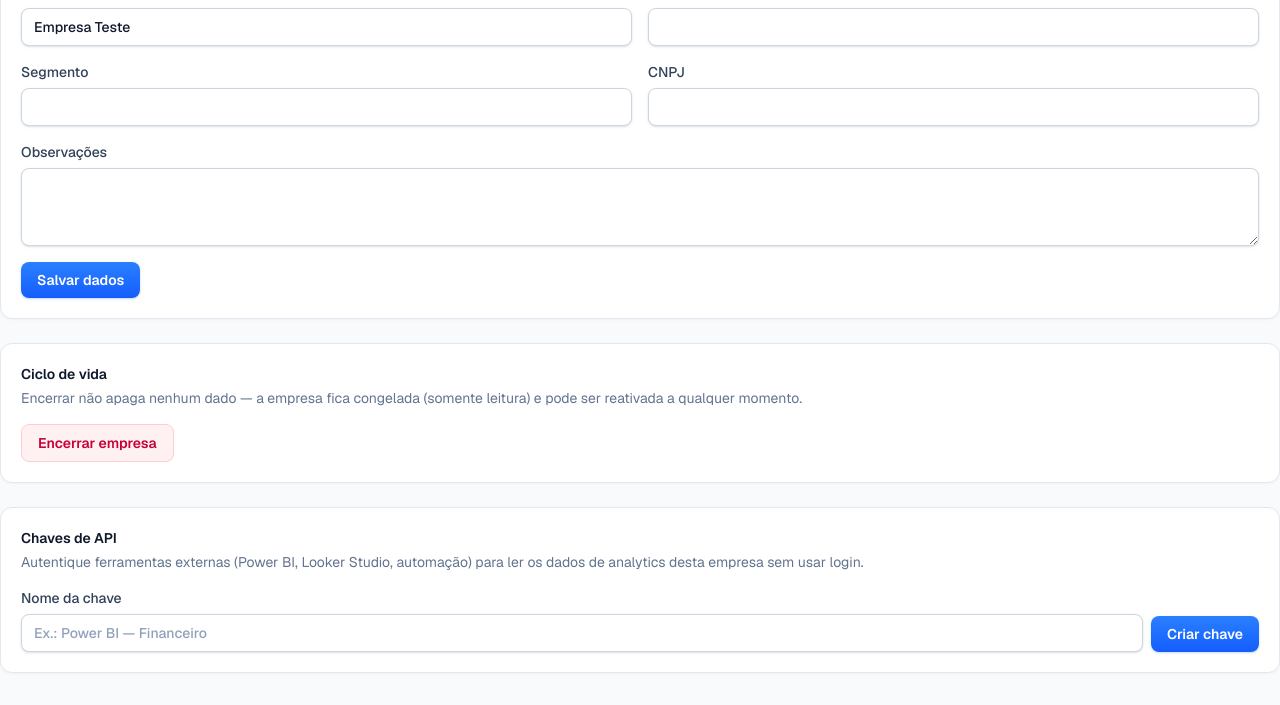
Test: OrganizationSettingsPage › erro ao encerrar mantém o diálogo aberto com a mensagem
(page scrolled)
Click the button "Encerrar empresa".
click(97, 443)  # box [21, 424, 174, 462]
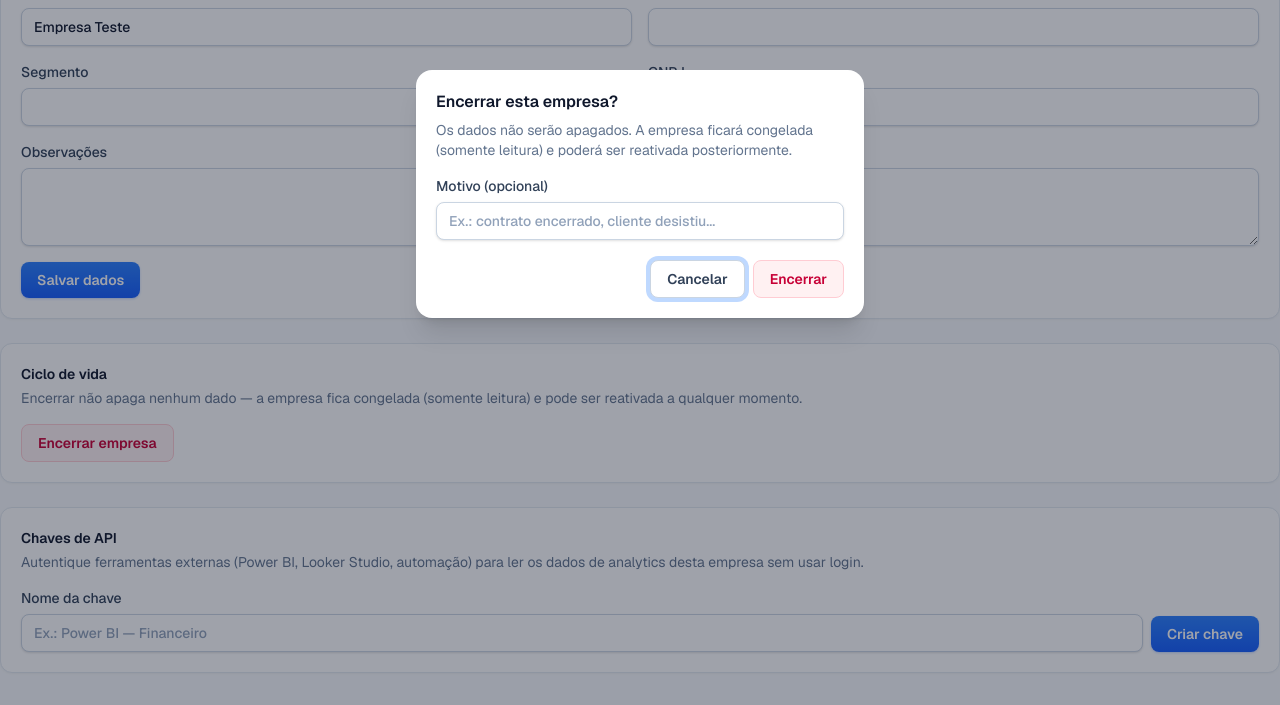
Click the button "Encerrar".
click(798, 279)  # box [753, 260, 844, 298]
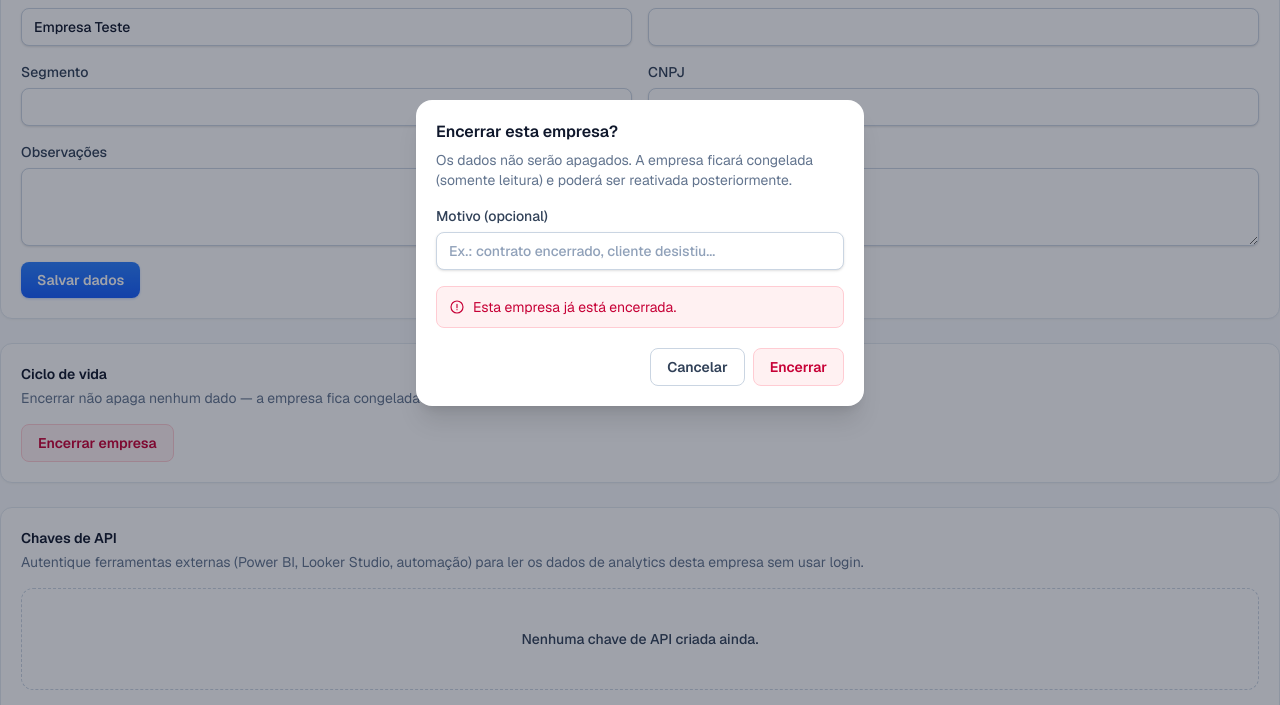
Now the text "Esta empresa já está encerrada." is shown, box [473, 297, 676, 317]
